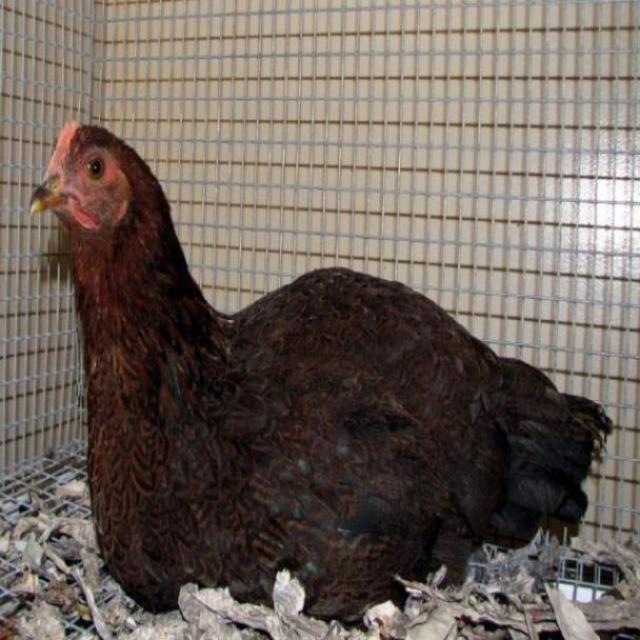Chicken: (30, 120, 599, 611)
